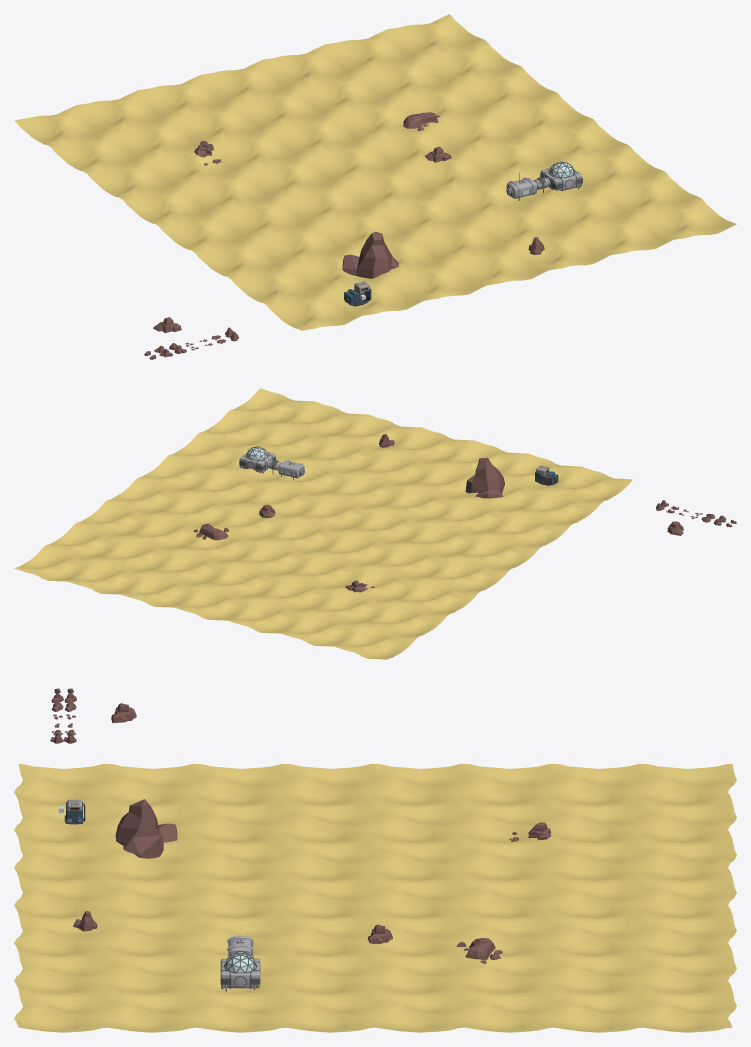
File: Desert.glb
The picture shows the model from 3 angles, top to bottom: view 1: azimuth 30°, elevation 25°; view 2: azimuth 150°, elevation 25°; view 3: azimuth 270°, elevation 25°; orthographic projection. The views are drawn at different scales.
Visible parts, largest first — view 1: Plane, stone_7.002; view 2: Plane, stone_7.002; view 3: Plane, stone_7.002, Cube.001, stone_6.001.
Boxes of the visible parts, x1,y1,x2,y2 form: Plane: (14, 14, 736, 330); stone_7.002: (342, 231, 398, 278); Plane: (14, 388, 632, 659); stone_7.002: (465, 457, 504, 498); Plane: (14, 763, 736, 1032); stone_7.002: (115, 799, 177, 858); Cube.001: (220, 958, 260, 991); stone_6.001: (456, 938, 502, 964).
Size of what is drawn, in the model's own units: 125 by 8.14 by 110.
Materials: 7 (1 with a texture image).
